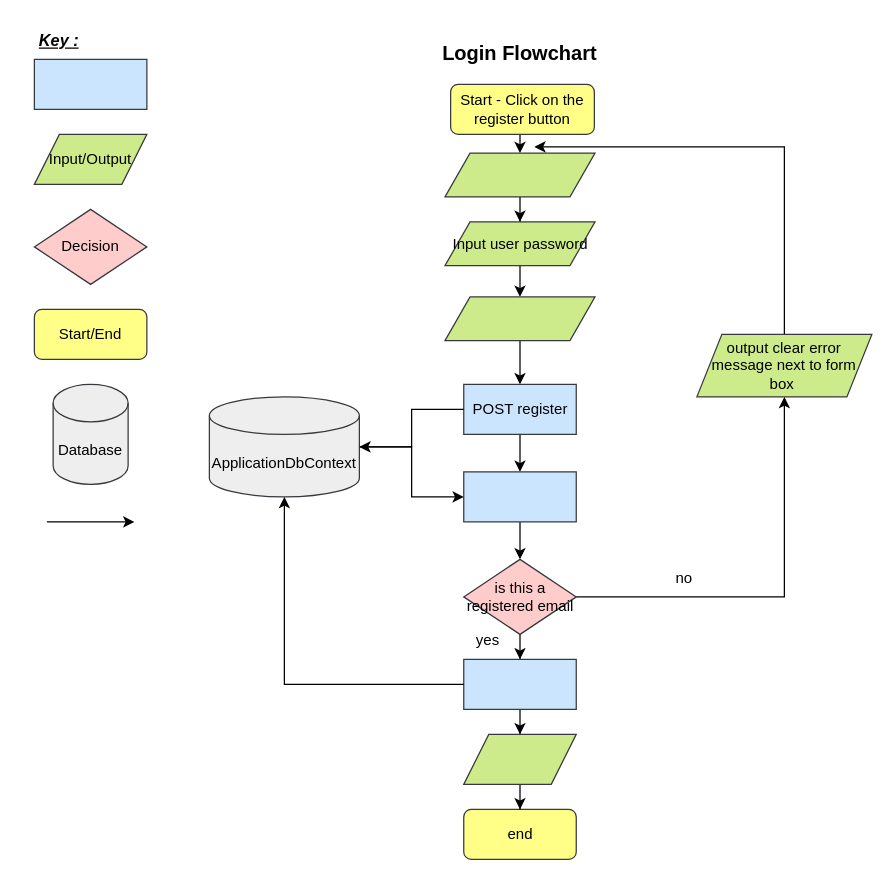
Image size: 894x881. Some labels were removed from this diagram. The centre of each missing label's shape, as x and y in pixels:
allow user to sign into site: the point at 519,683
Click register button: the point at 519,318
Compare user Email to all existing Emails: the point at 519,496
Input user Email: the point at 519,174
Process: the point at 90,83
return view: the point at 519,758
